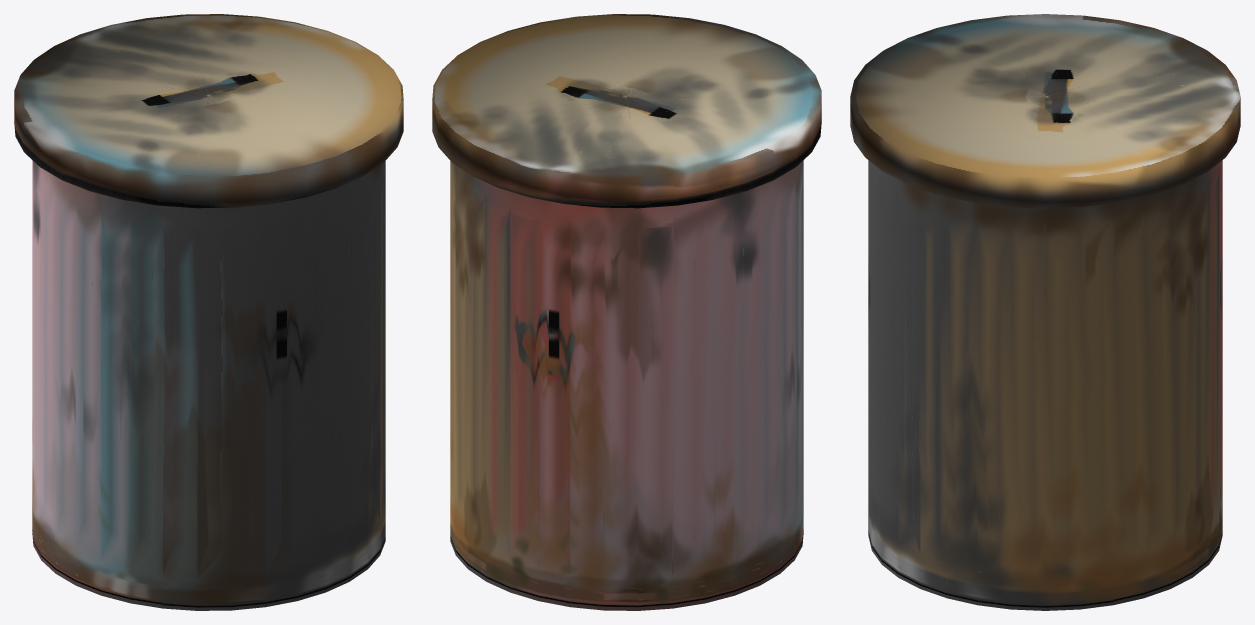
3 renders of one model, left to right at view 1: azimuth 30°, elevation 25°; view 2: azimuth 150°, elevation 25°; view 3: azimuth 270°, elevation 25°, orthographic.
Parts seen in each view (by area): view 1: bin; view 2: bin; view 3: bin.
Part boxes in pixels (<box>): bin: <box>14,14,403,610</box>; bin: <box>432,14,821,610</box>; bin: <box>850,14,1240,610</box>.
Size of the model in its own units: 150 by 186 by 150.
Materials: 1 (1 with a texture image).
